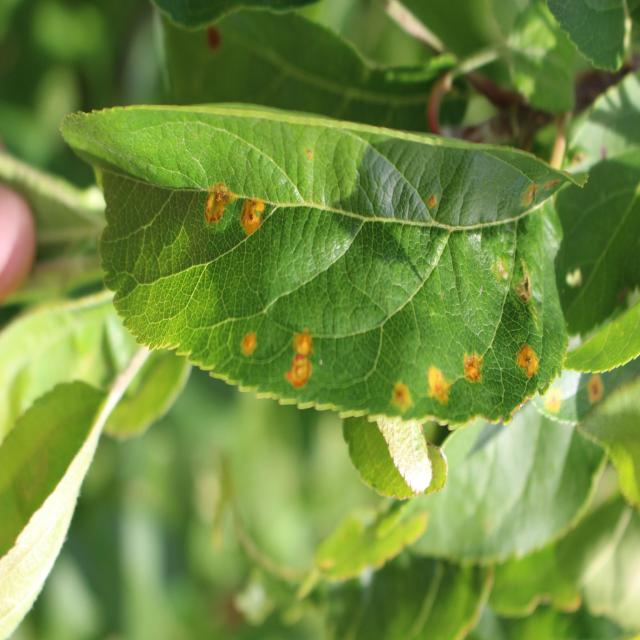Rust: (197, 150, 234, 244), (237, 168, 277, 254), (422, 340, 460, 427), (284, 315, 316, 414), (459, 332, 495, 418), (230, 304, 265, 388), (385, 365, 419, 446), (510, 331, 545, 405), (577, 344, 607, 430), (416, 180, 450, 219), (304, 144, 318, 169)
